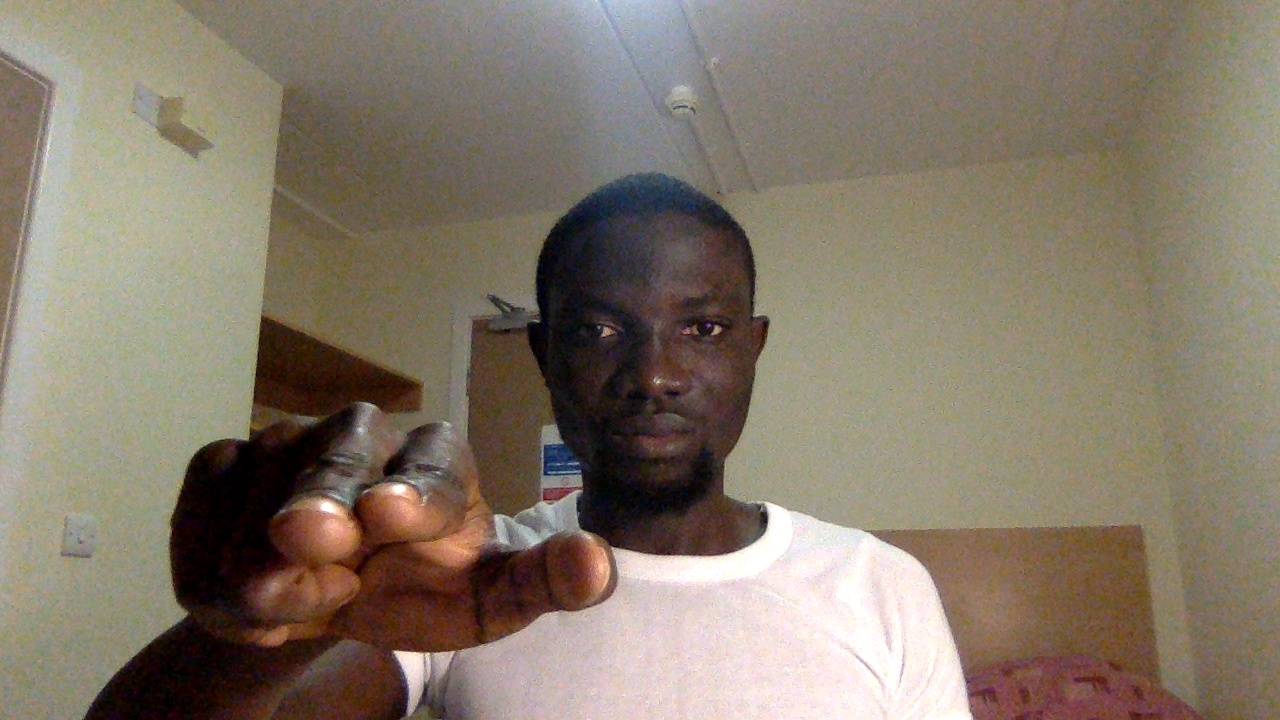No: (159, 389, 630, 676)
